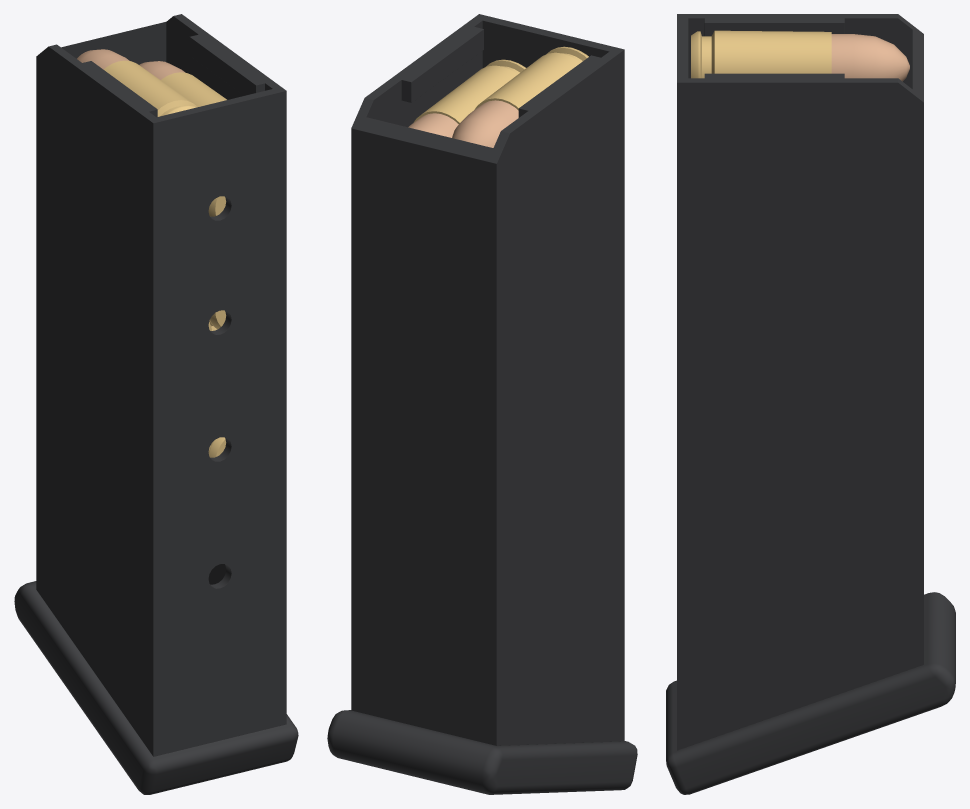
The model's file is magazine.fbx.
The picture shows the model from 3 angles, left to right: view 1: azimuth 30°, elevation 25°; view 2: azimuth 150°, elevation 25°; view 3: azimuth 270°, elevation 25°; orthographic projection. The views are drawn at different scales.
Parts seen in each view (by area): view 1: weapon_magazine; view 2: weapon_magazine; view 3: weapon_magazine.
Boxes of the visible parts, x1,y1,x2,y2 form: weapon_magazine: (14, 14, 298, 794); weapon_magazine: (327, 14, 637, 794); weapon_magazine: (666, 14, 955, 794).
Bounding box in the file's own units: 2.55 × 10.63 × 3.93.
